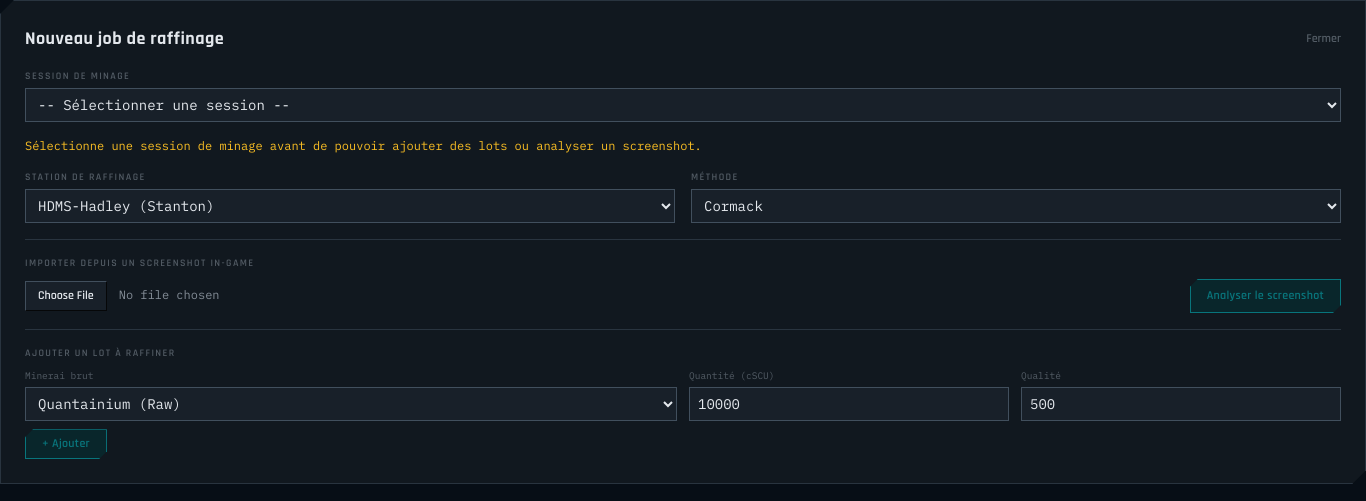
Test: NewJobForm — mode batch › refuse d'ajouter un lot de moins de 100 cSCU (1 SCU, unité minimale)
Expected: the button "+ Ajouter" is shown, [25,429,107,459]
Select "MIN001 — Stanton" in the dropdown labelled "Session de minage". click: (683, 105)
box: [25,88,1341,122]
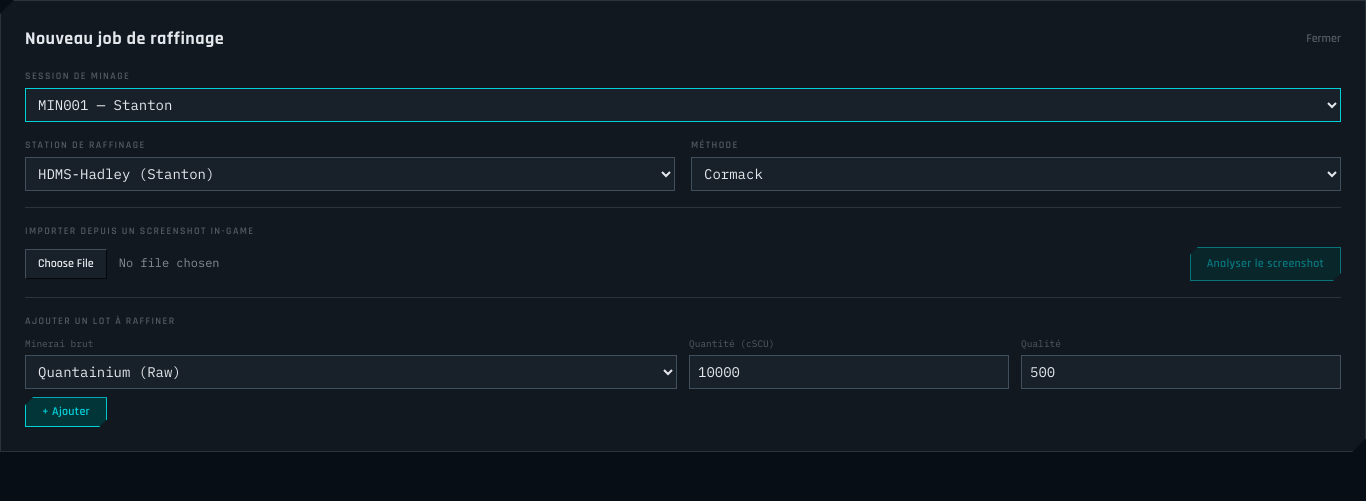
Replace the text in the number field labelled "Quantité (cSCU)" with "40". click: (849, 372)
box: [689,355,1009,389]
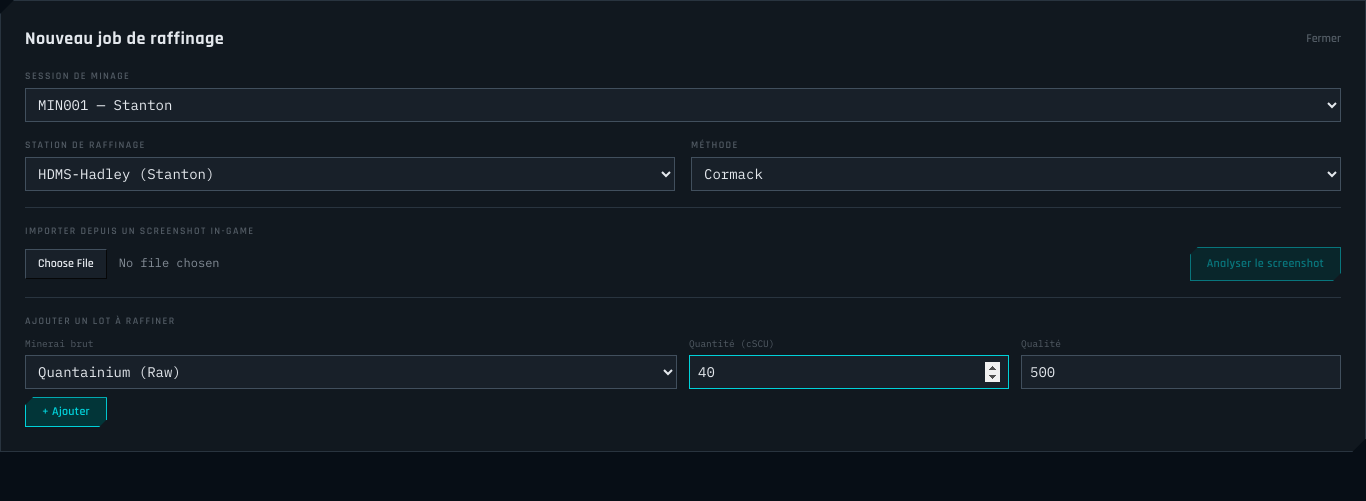
Click the button "+ Ajouter". click: (66, 412)
box: [25,397,107,427]
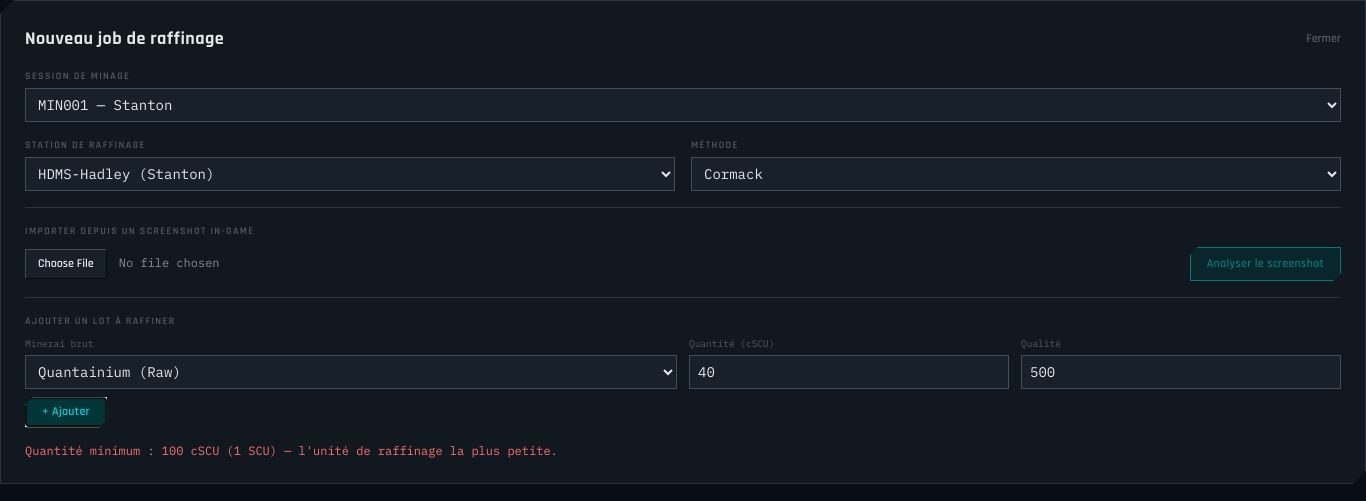
Expected: the text "Quantité minimum" is shown, [25,443,558,458]
